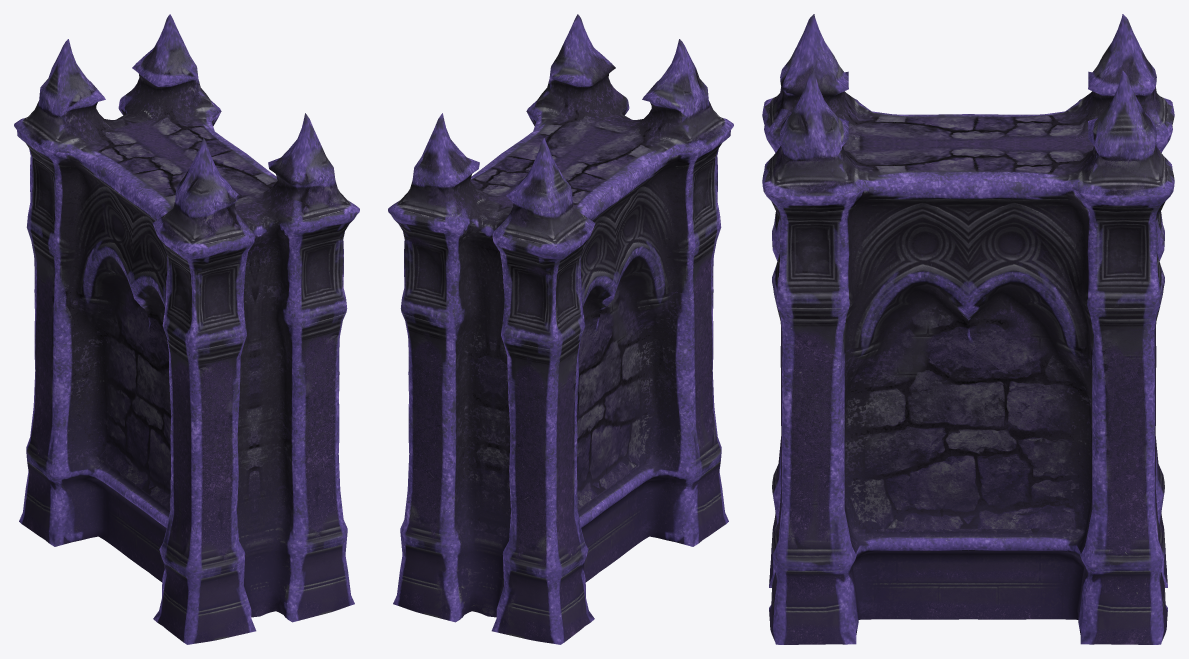
The model's file is Wall1H.fbx.
3 renders of one model, left to right at view 1: azimuth 30°, elevation 25°; view 2: azimuth 150°, elevation 25°; view 3: azimuth 270°, elevation 25°, orthographic. The views are drawn at different scales.
Parts seen in each view (by area): view 1: Wall1H; view 2: Wall1H; view 3: Wall1H.
Boxes of the visible parts, <box> form: Wall1H: <box>14,14,359,644</box>; Wall1H: <box>388,14,733,644</box>; Wall1H: <box>762,14,1174,644</box>.
Size of the model in its own units: 2.07 by 5.47 by 3.68.
Materials: 1 (1 with a texture image).
